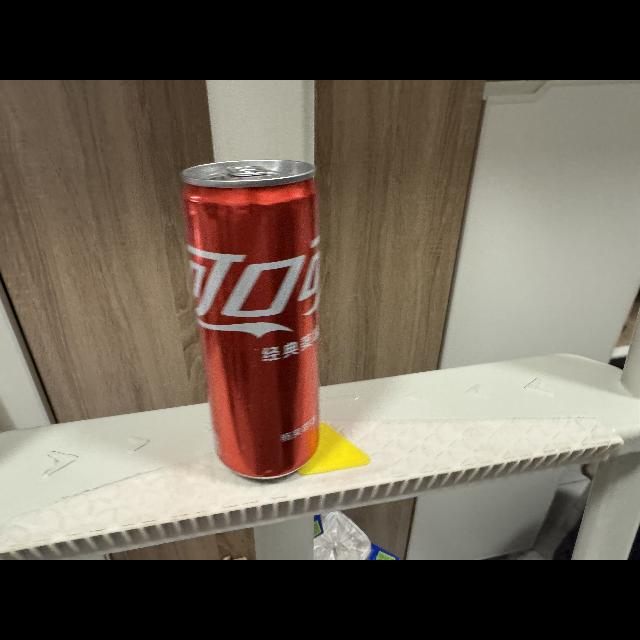Cola: (172, 144, 338, 492)
